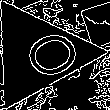O_SW: (1, 22, 75, 86)
